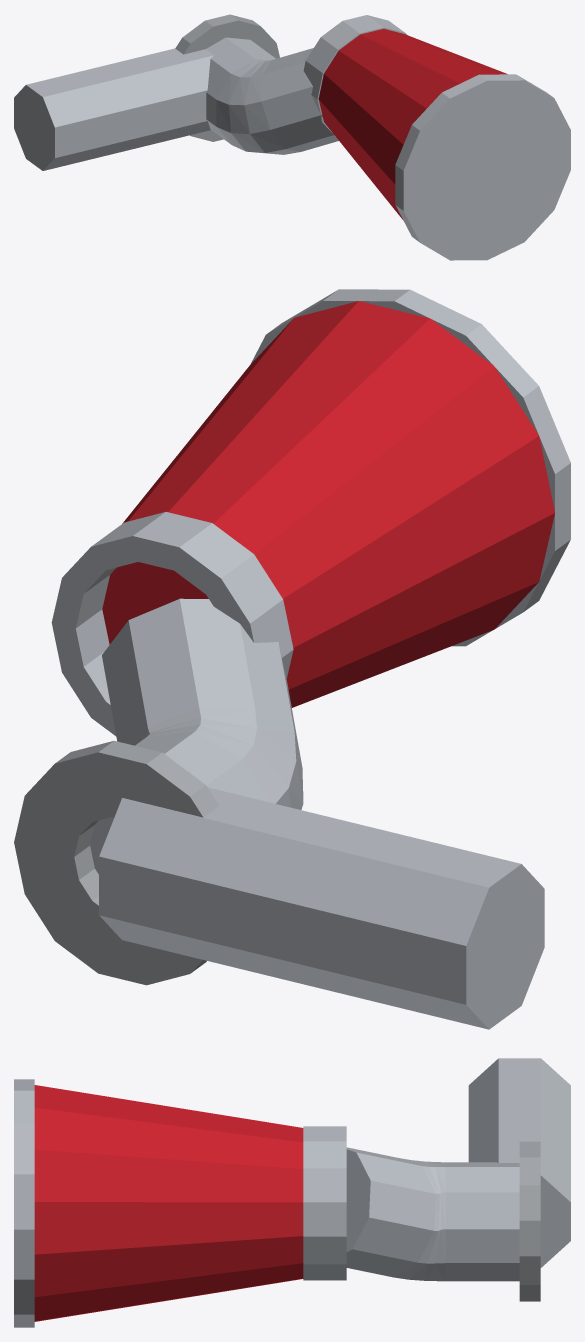
The model's file is brute_500.glb.
3 views of the same model, one above another, from view 1: azimuth 30°, elevation 25°; view 2: azimuth 150°, elevation 25°; view 3: azimuth 270°, elevation 25° (orthographic). The views are drawn at different scales.
Visible parts, largest first — view 1: model; view 2: model; view 3: model.
Boxes of the visible parts, x1,y1,x2,y2 form: model: (14,14,570,260); model: (14,289,570,1029); model: (14,1058,570,1327).
Size of the model in its own units: 0.28 by 0.1528 by 0.3216.
2 materials, 1 textured.
